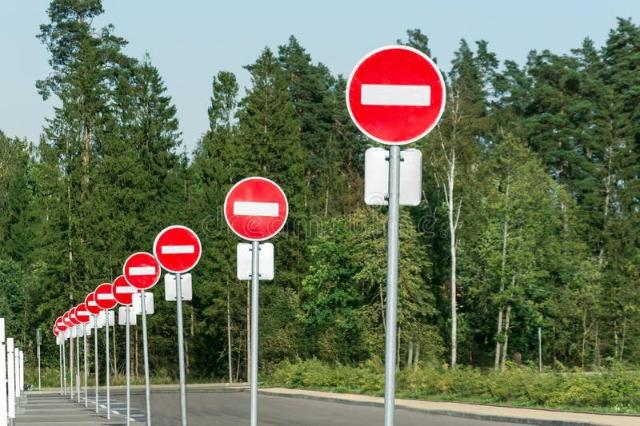B2: (344, 43, 446, 145), (222, 175, 288, 241), (152, 224, 202, 274), (122, 251, 160, 289)
